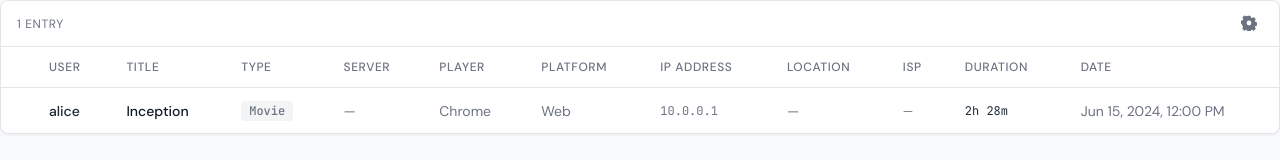
Test: HistoryTable › opens column settings popover on click
Click the button named "column settings" at (1249, 23), box [1235,9,1263,37]
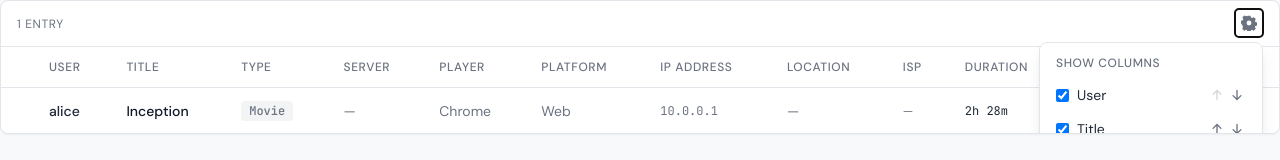
Check: the text "Show columns" is shown, box [1056,55,1160,71]
Check: the checkbox labelled "Title" is shown, box [1056,122,1069,134]
